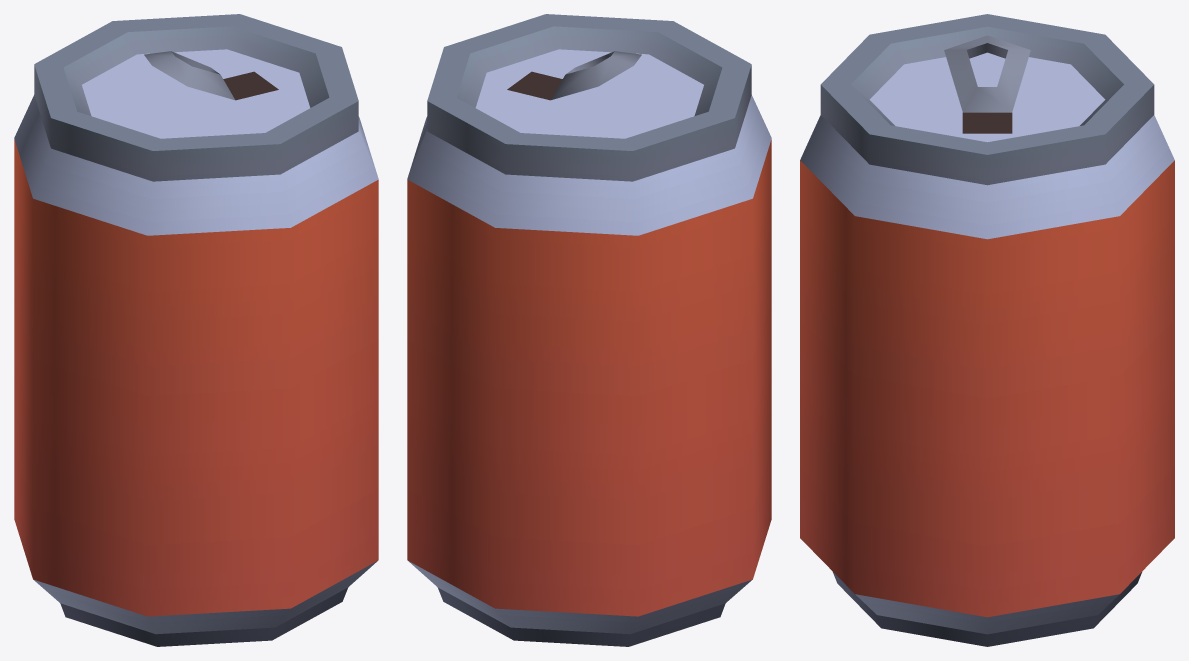
File: food.soda_can.glb
3 renders of one model, left to right at view 1: azimuth 30°, elevation 25°; view 2: azimuth 150°, elevation 25°; view 3: azimuth 270°, elevation 25°, orthographic.
Visible parts, largest first — view 1: soda-can; view 2: soda-can; view 3: soda-can.
Boxes of the visible parts, bbox=[...] form: soda-can: bbox=[14, 14, 378, 646]; soda-can: bbox=[407, 14, 771, 646]; soda-can: bbox=[800, 14, 1174, 646].
Bounding box in the file's own units: 0.0667 × 0.1041 × 0.0667.
1 material, 1 textured.
